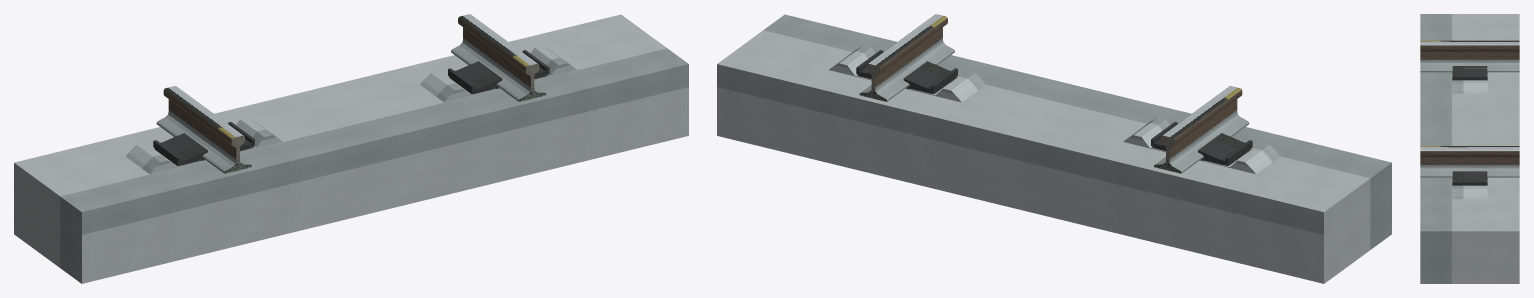
Rendered from slab_low.obj.
3 views of the same model, side by side, from view 1: azimuth 30°, elevation 25°; view 2: azimuth 150°, elevation 25°; view 3: azimuth 270°, elevation 25° (orthographic). The views are drawn at different scales.
Parts seen in each view (by area): view 1: slab_bed, rail_left, rail_right, sleeper, fastener_right, fastener_left; view 2: slab_bed, rail_left, rail_right, sleeper, fastener_right, fastener_left; view 3: slab_bed, rail_left, rail_right, sleeper, fastener_left, fastener_right.
Boxes of the visible parts, left/top/right/bottom form: slab_bed: left=14, top=14, right=688, bottom=283; rail_left: left=156, top=86, right=250, bottom=173; rail_right: left=451, top=14, right=544, bottom=101; sleeper: left=126, top=45, right=576, bottom=174; fastener_right: left=448, top=50, right=549, bottom=94; fastener_left: left=153, top=122, right=254, bottom=166; slab_bed: left=717, top=14, right=1391, bottom=283; rail_left: left=1155, top=86, right=1249, bottom=173; rail_right: left=861, top=14, right=954, bottom=101; sleeper: left=829, top=45, right=1279, bottom=174; fastener_right: left=856, top=50, right=957, bottom=94; fastener_left: left=1151, top=122, right=1252, bottom=166; slab_bed: left=1420, top=14, right=1519, bottom=283; rail_left: left=1420, top=40, right=1519, bottom=72; rail_right: left=1420, top=146, right=1519, bottom=177; sleeper: left=1452, top=74, right=1487, bottom=199; fastener_left: left=1452, top=66, right=1487, bottom=80; fastener_right: left=1452, top=171, right=1487, bottom=185.
Size of the model in its own units: 3.1 by 0.5324 by 0.6.
